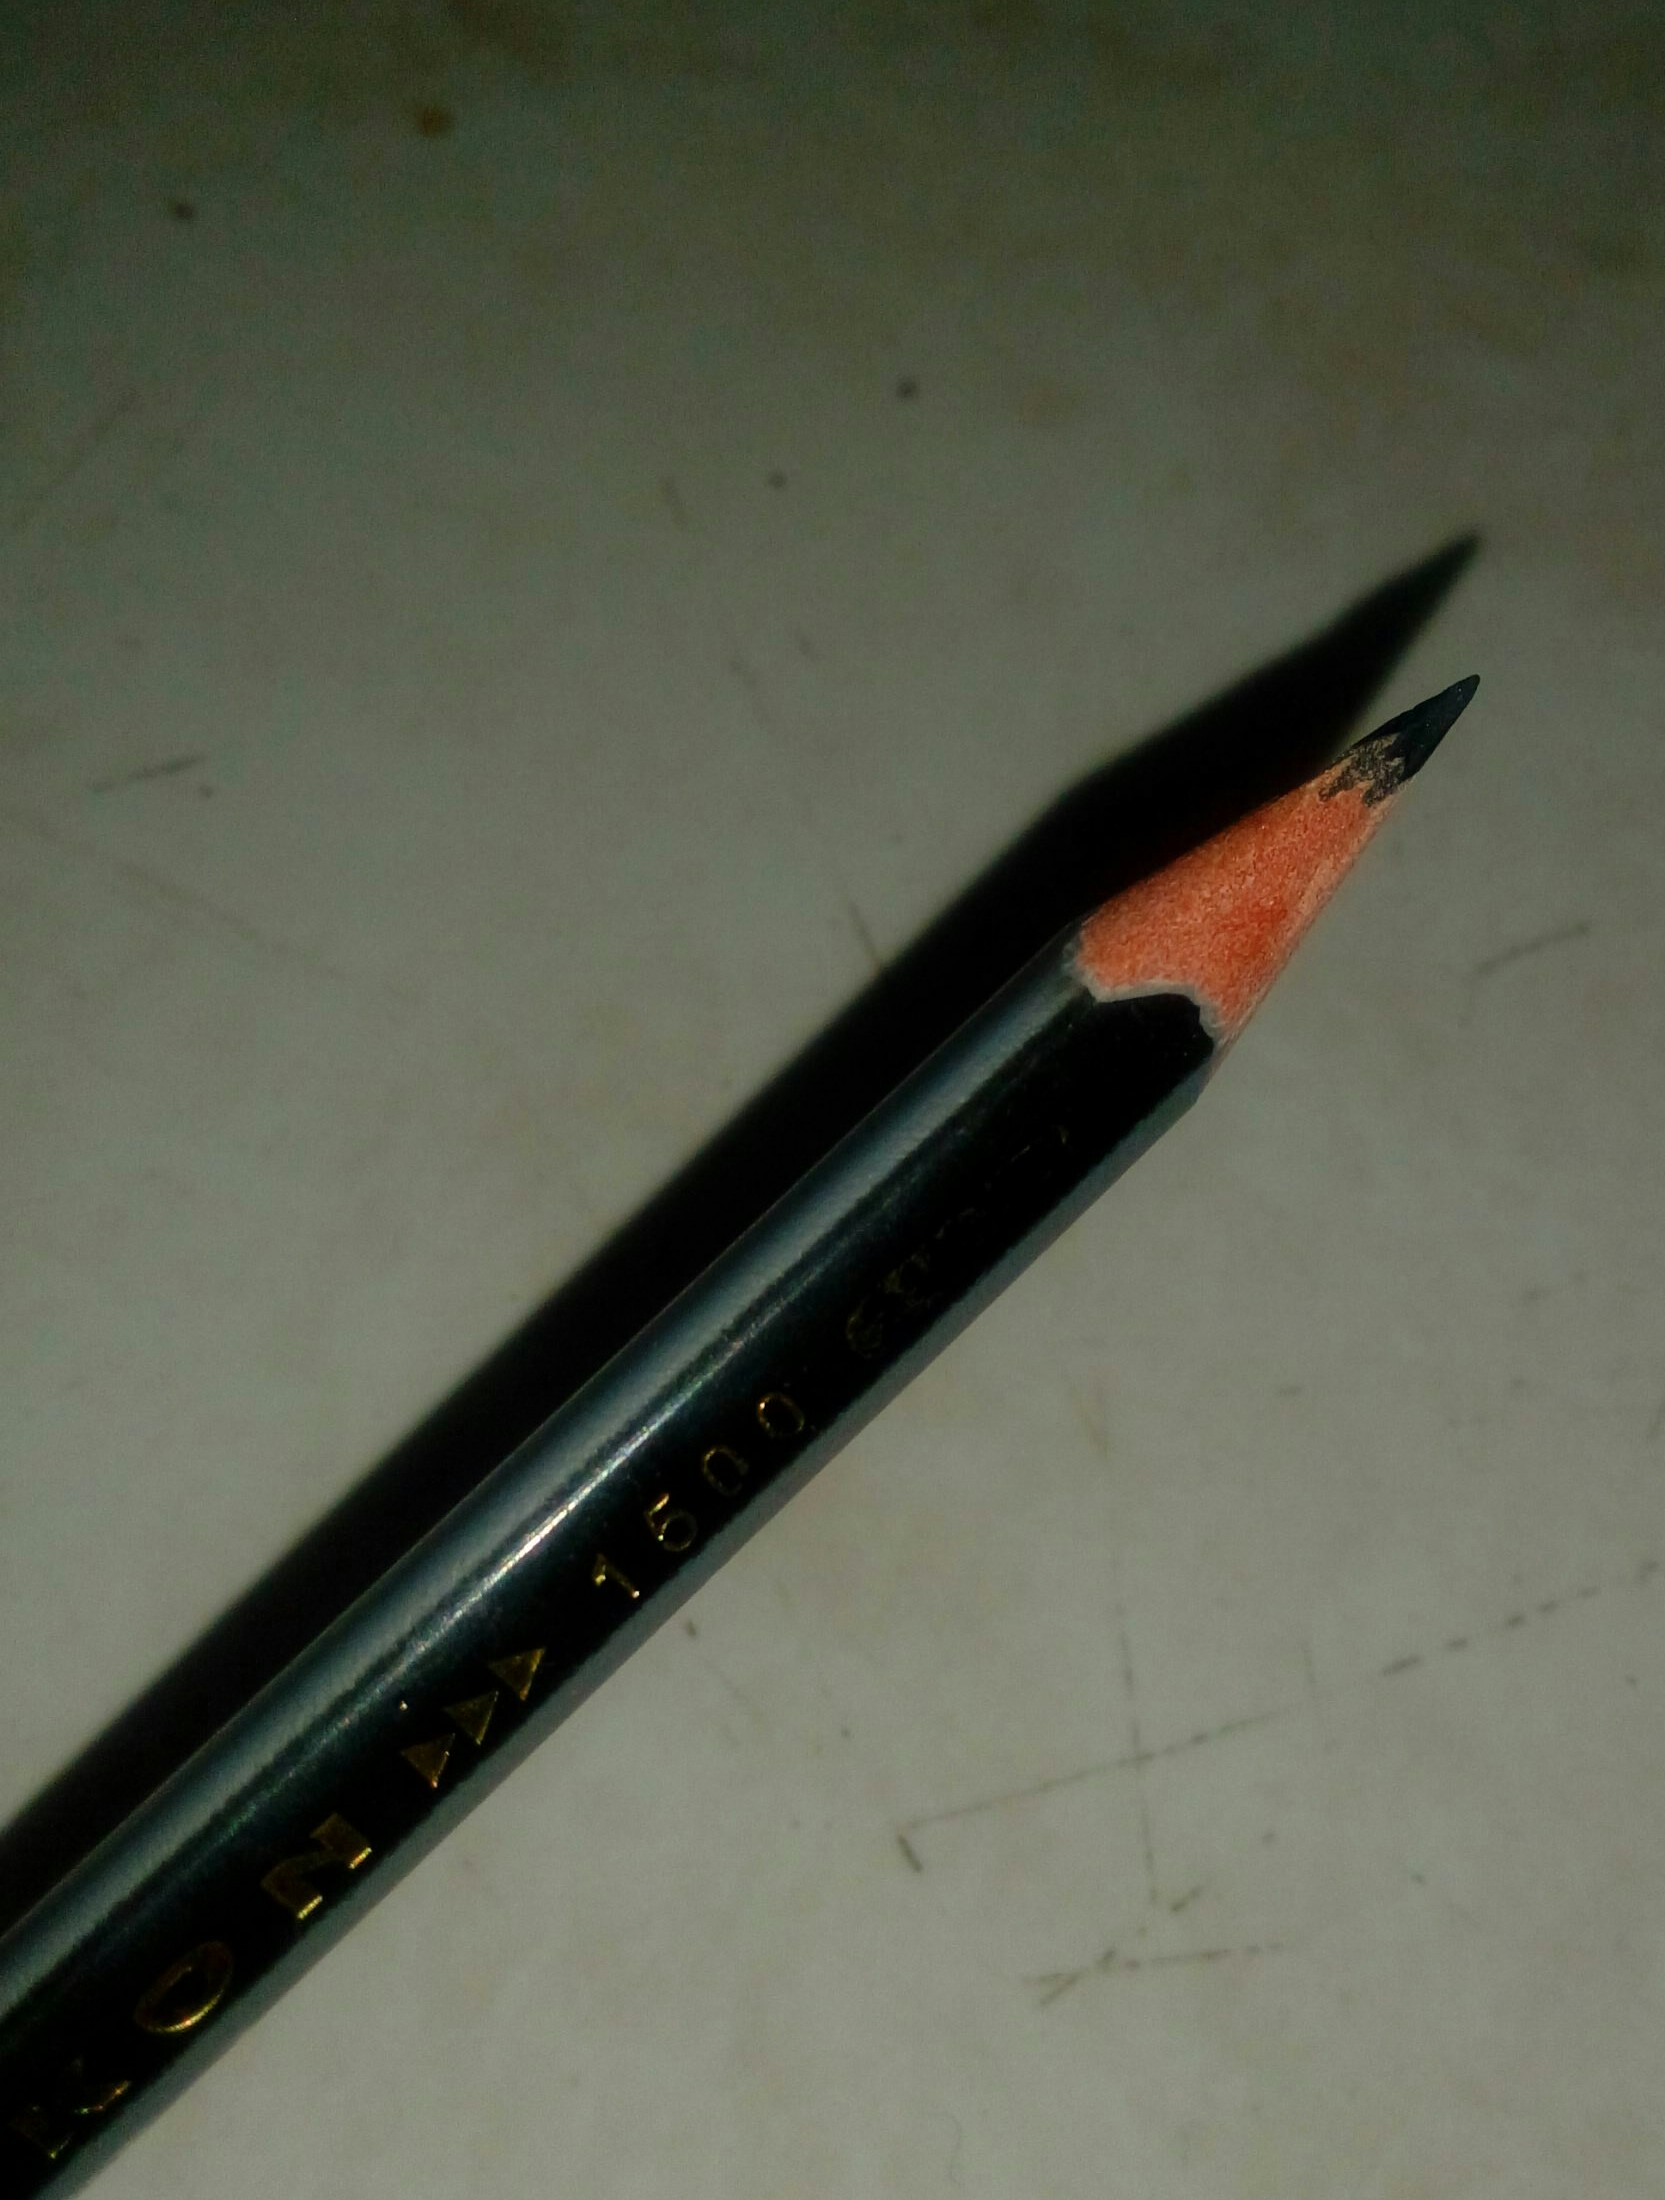pen_tip: (915, 607, 1614, 1135)
